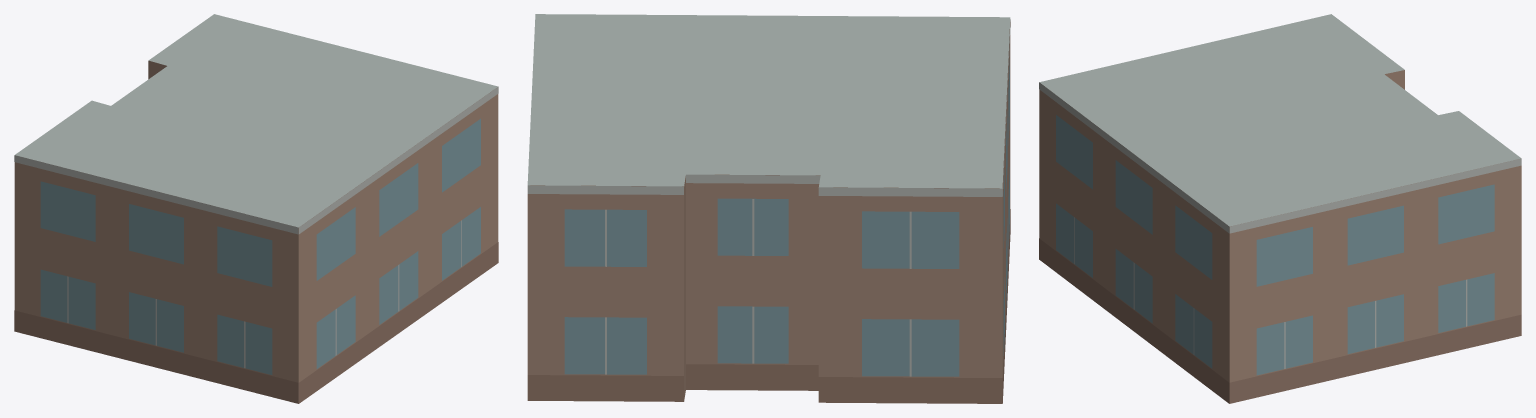
The model's file is survey-upis-32721137.glb.
3 renders of one model, left to right at view 1: azimuth 30°, elevation 25°; view 2: azimuth 150°, elevation 25°; view 3: azimuth 270°, elevation 25°, orthographic. The views are drawn at different scales.
Visible parts, largest first — view 1: survey-upis-32721137.tmp; view 2: survey-upis-32721137.tmp; view 3: survey-upis-32721137.tmp.
Part boxes in pixels (box(x1,y1,x2,y2)): survey-upis-32721137.tmp: box(14, 14, 498, 403); survey-upis-32721137.tmp: box(527, 14, 1010, 403); survey-upis-32721137.tmp: box(1039, 14, 1521, 403).
Size of the model in its own units: 15.69 by 6.1 by 15.05.
